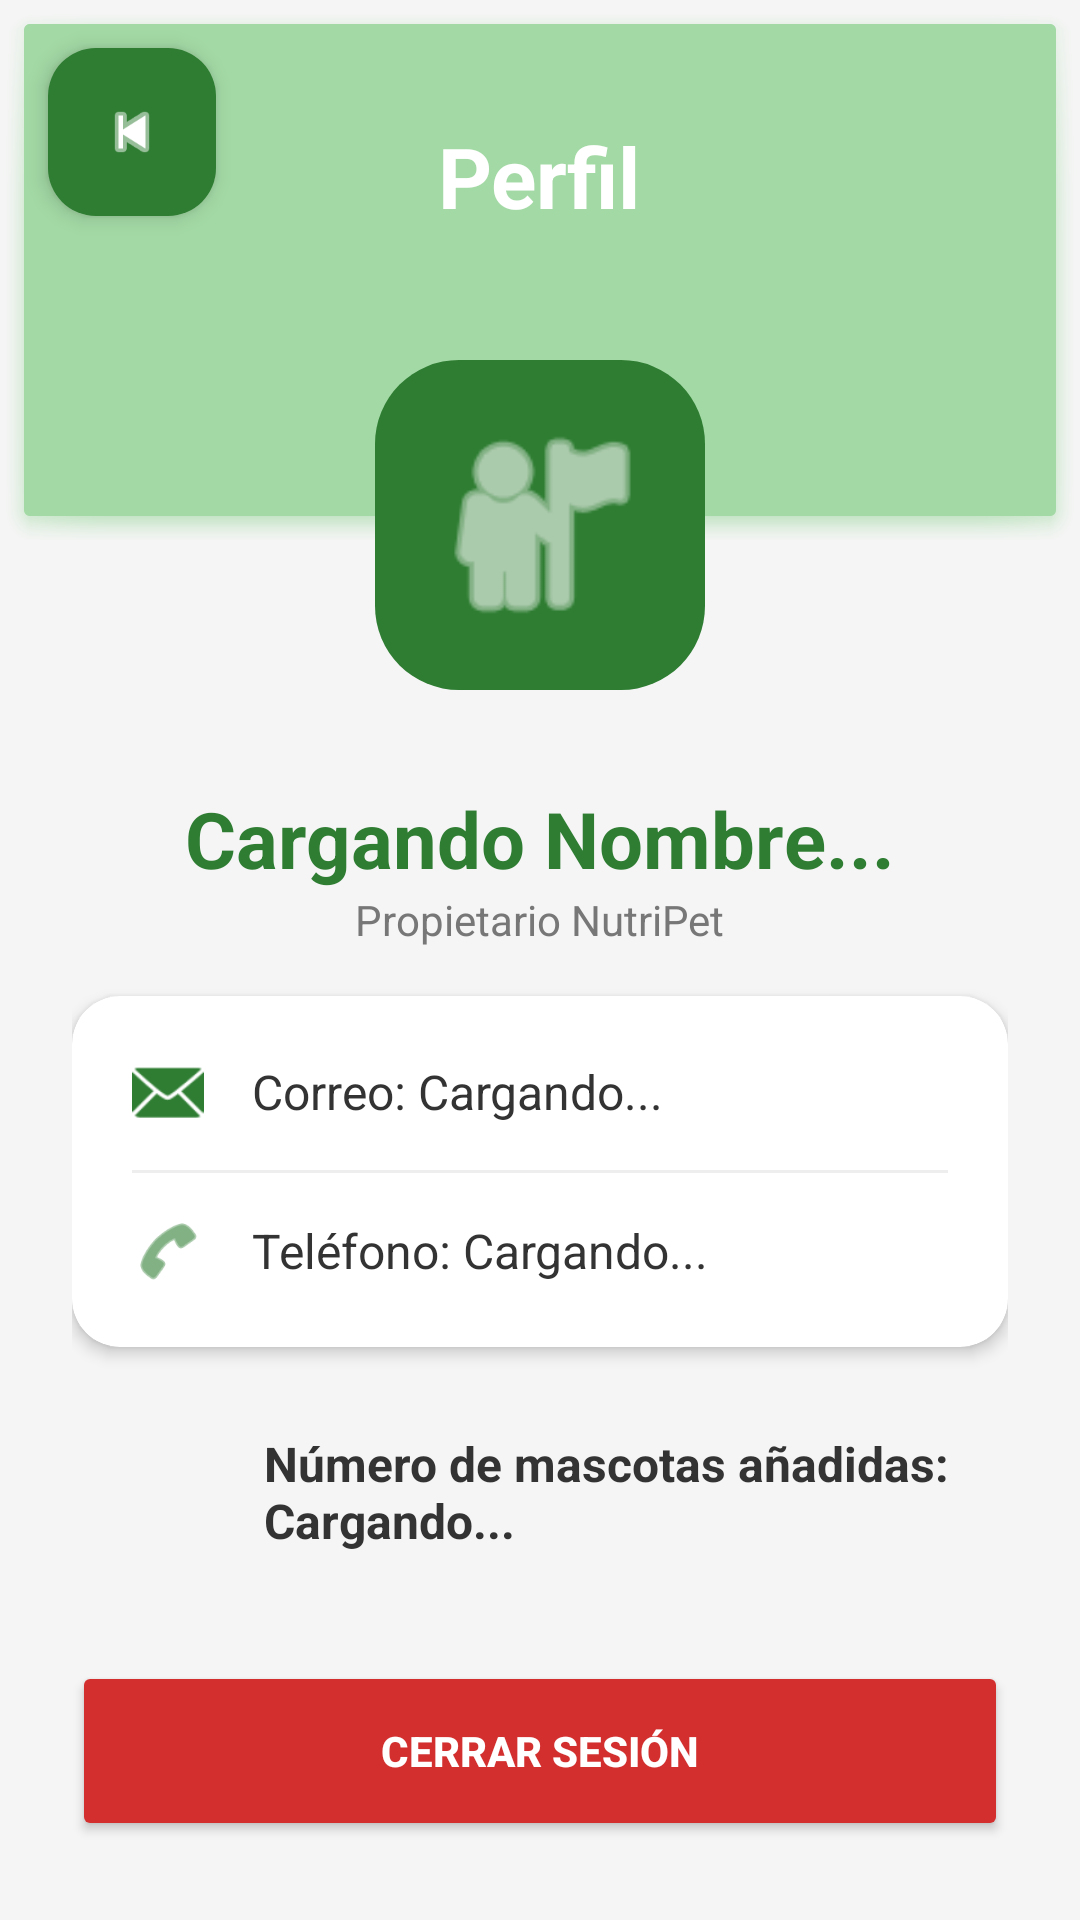

Screen size 1080w x 1920h. Icon name, then its center in pixels as [x,y]:
call: [168,1251]
email: [168,1092]
myplaces: [540,525]
Volver atrás: [132,132]
